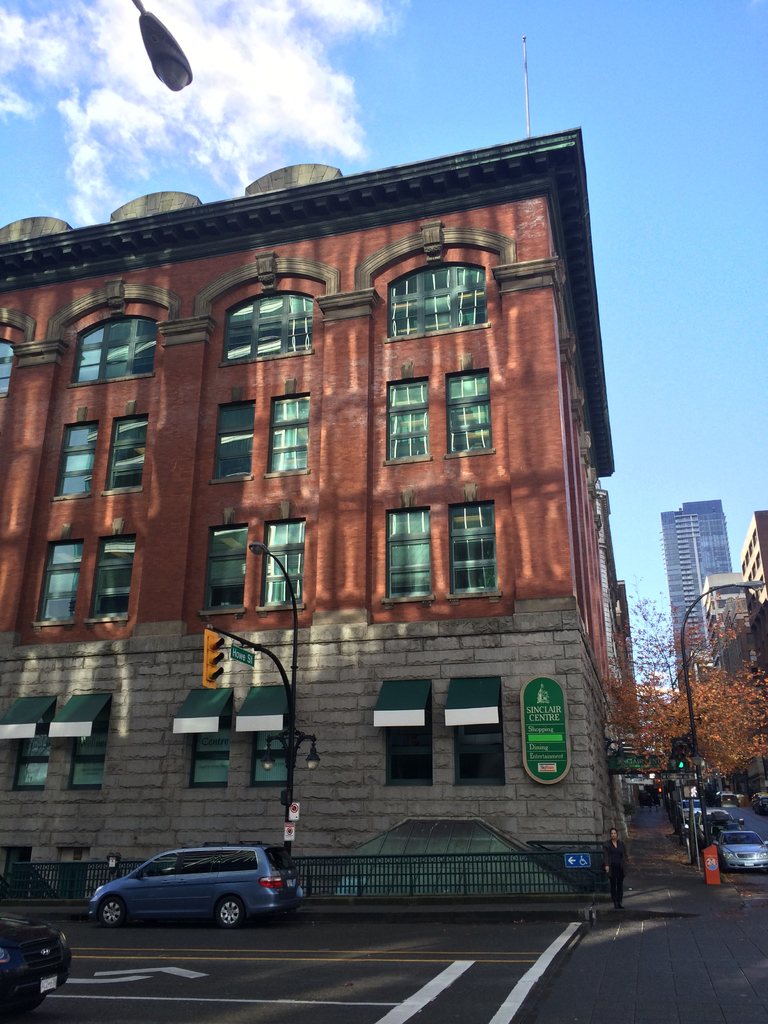mobil: (95, 842, 299, 936)
